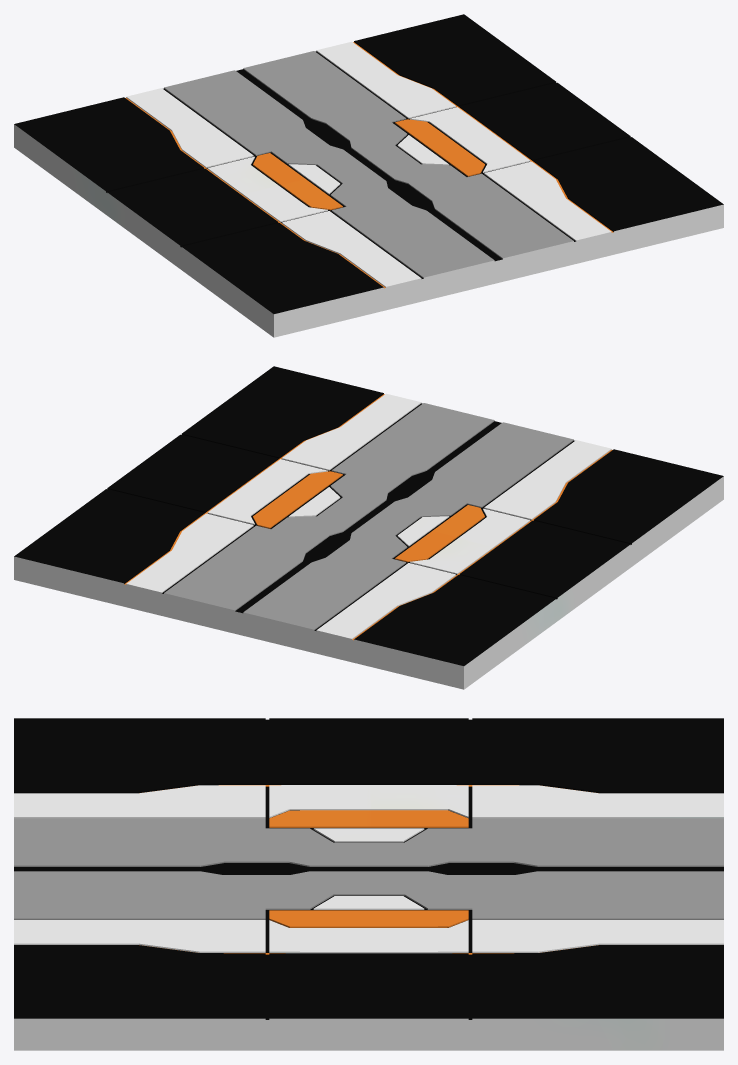
File: F_Floor_01.fbx
3 renders of one model, top to bottom at view 1: azimuth 30°, elevation 25°; view 2: azimuth 150°, elevation 25°; view 3: azimuth 270°, elevation 25°, orthographic. The views are drawn at different scales.
Visible parts, largest first — view 1: F_Floor_01; view 2: F_Floor_01; view 3: F_Floor_01.
Boxes of the visible parts, x1,y1,x2,y2 form: F_Floor_01: (14,14,723,337); F_Floor_01: (14,366,723,689); F_Floor_01: (14,718,723,1050).
Bounding box in the file's own units: 879 × 43.75 × 879.
